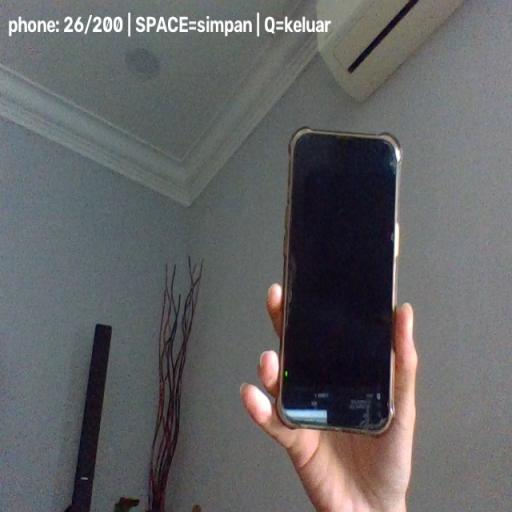Phone: (276, 128, 402, 436)
